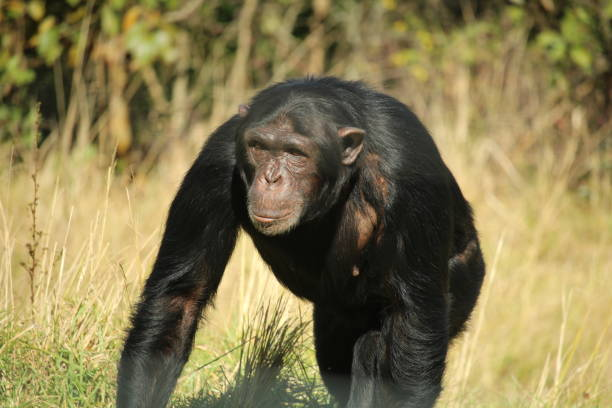chimpanzee: (231, 90, 384, 256)
